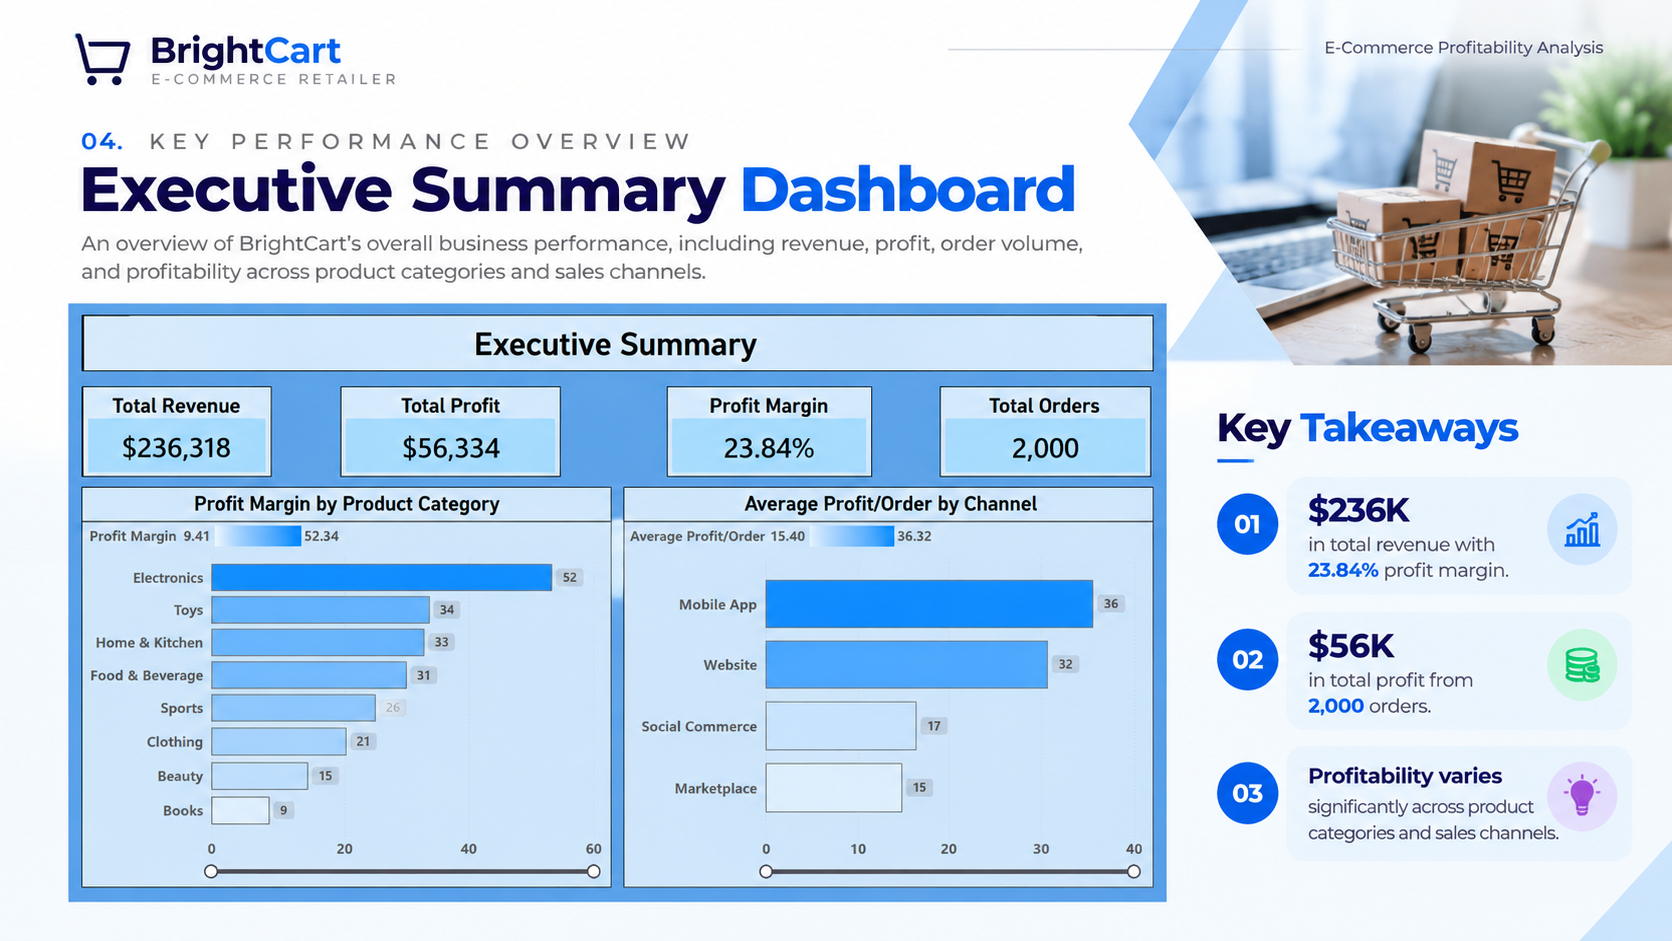

The page's visual inventory and layout, read from the dashboard file:
{"tool":"powerbi","page":{"name":"Executive Summary","canvas":[1280,720],"ordinal":0},"visuals":[{"type":"textbox","box":[15,10,1253.3,66.7],"z":0},{"type":"cardVisual","title":"Total Profit","fields":{"Data":["Sum(ecommerce orders.profit)"]},"box":[321.7,91.7,250,105],"z":1000},{"type":"cardVisual","title":"Profit Margin","fields":{"Data":["ecommerce orders.profit_margin"]},"box":[733.3,91.7,223.2,104.6],"z":2000},{"type":"cardVisual","title":"Total Revenue","fields":{"Data":["Sum(ecommerce orders.net_revenue)"]},"box":[15,91.7,211.7,105],"z":3000},{"type":"cardVisual","title":"Total Orders","fields":{"Data":["CountNonNull(ecommerce orders.order_id)"]},"box":[1045,91.7,223.2,104.6],"z":4000},{"type":"barChart","title":"Profit Margin by Product Category","fields":{"Y":["Avg(ecommerce orders.profit)"],"Category":["ecommerce orders.primary_category"]},"box":[15,210,613.3,493.3],"z":5000},{"type":"barChart","title":"Average Profit/Order by Channel","fields":{"Y":["Avg(ecommerce orders.profit)"],"Category":["ecommerce orders.channel"]},"box":[643.3,210,625,495],"z":6000}]}

Visuals, with their boxes in screenshot pixels (x1, y1, x2, y2), scaled from the page's 1280x720 canvas onto the 1672x941 screenshot:
textbox: bbox(20, 13, 1657, 100)
"Total Profit" cardVisual: bbox(420, 120, 747, 257)
"Profit Margin" cardVisual: bbox(958, 120, 1249, 257)
"Total Revenue" cardVisual: bbox(20, 120, 296, 257)
"Total Orders" cardVisual: bbox(1365, 120, 1657, 257)
"Profit Margin by Product Category" barChart: bbox(20, 274, 821, 919)
"Average Profit/Order by Channel" barChart: bbox(840, 274, 1657, 921)
